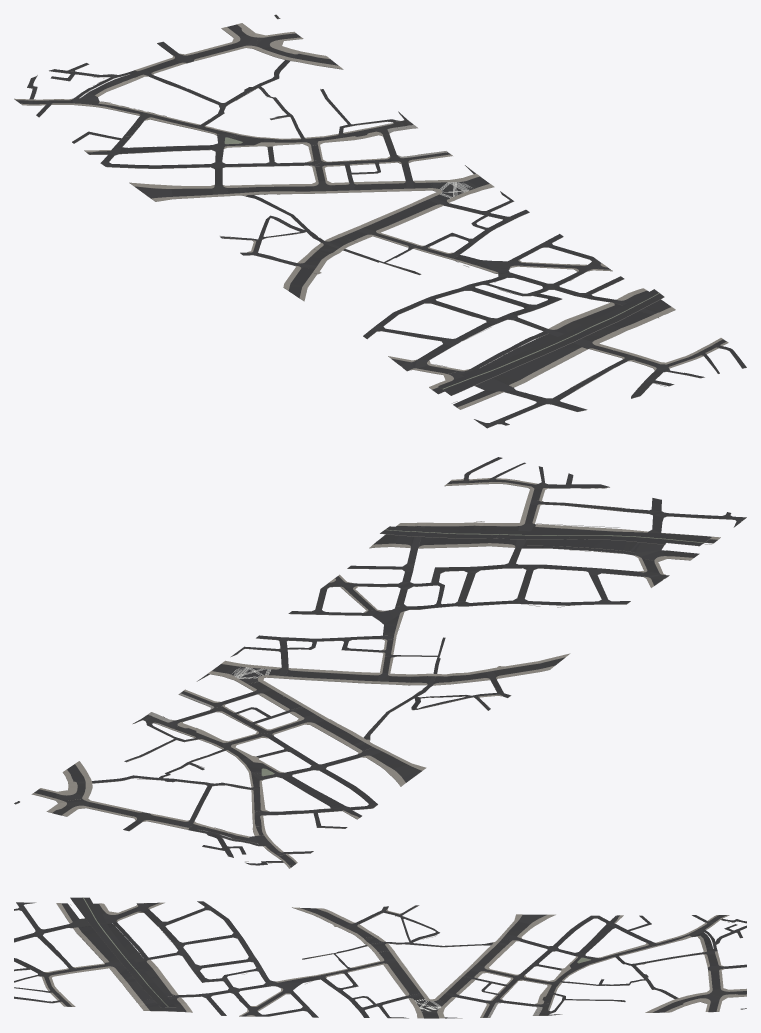
The model's file is exterior-west.glb.
3 renders of one model, top to bottom at view 1: azimuth 30°, elevation 25°; view 2: azimuth 150°, elevation 25°; view 3: azimuth 270°, elevation 25°, orthographic. The views are drawn at different scales.
Parts seen in each view (by area): view 1: ground_road, ground_sidewalk, ground_intersection, ground_kerb; view 2: ground_road, ground_sidewalk, ground_intersection, ground_kerb; view 3: ground_road, ground_sidewalk, ground_intersection, ground_kerb.
Part boxes in pixels (left/top/right/bottom): ground_road: left=16, top=14, right=746, bottom=427; ground_sidewalk: left=14, top=23, right=728, bottom=409; ground_intersection: left=28, top=35, right=722, bottom=427; ground_kerb: left=14, top=16, right=746, bottom=428; ground_road: left=14, top=457, right=746, bottom=867; ground_sidewalk: left=32, top=478, right=720, bottom=868; ground_intersection: left=56, top=477, right=745, bottom=862; ground_kerb: left=14, top=458, right=746, bottom=868; ground_road: left=14, top=897, right=746, bottom=1018; ground_sidewalk: left=41, top=897, right=746, bottom=1017; ground_intersection: left=16, top=902, right=738, bottom=1018; ground_kerb: left=14, top=898, right=746, bottom=1018.
Bounding box in the file's own units: 260 × 24.57 × 800.
Materials: 8 (2 with a texture image).
